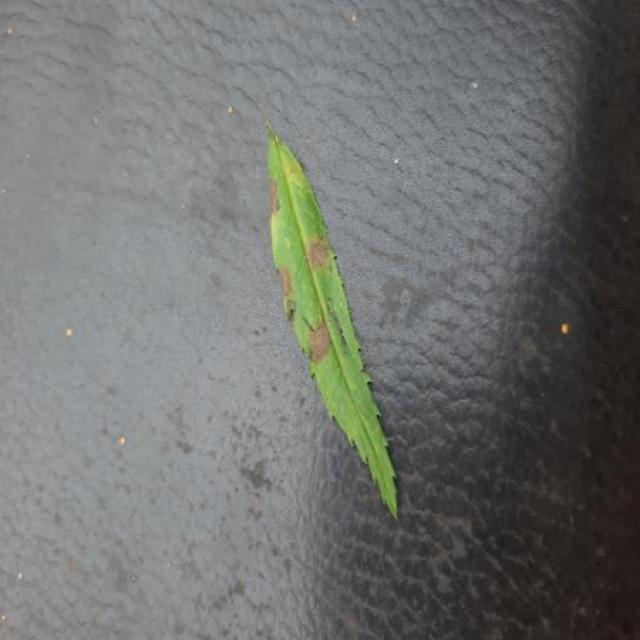leaf spot: (268, 125, 397, 517)
marigold: (268, 125, 397, 517)
